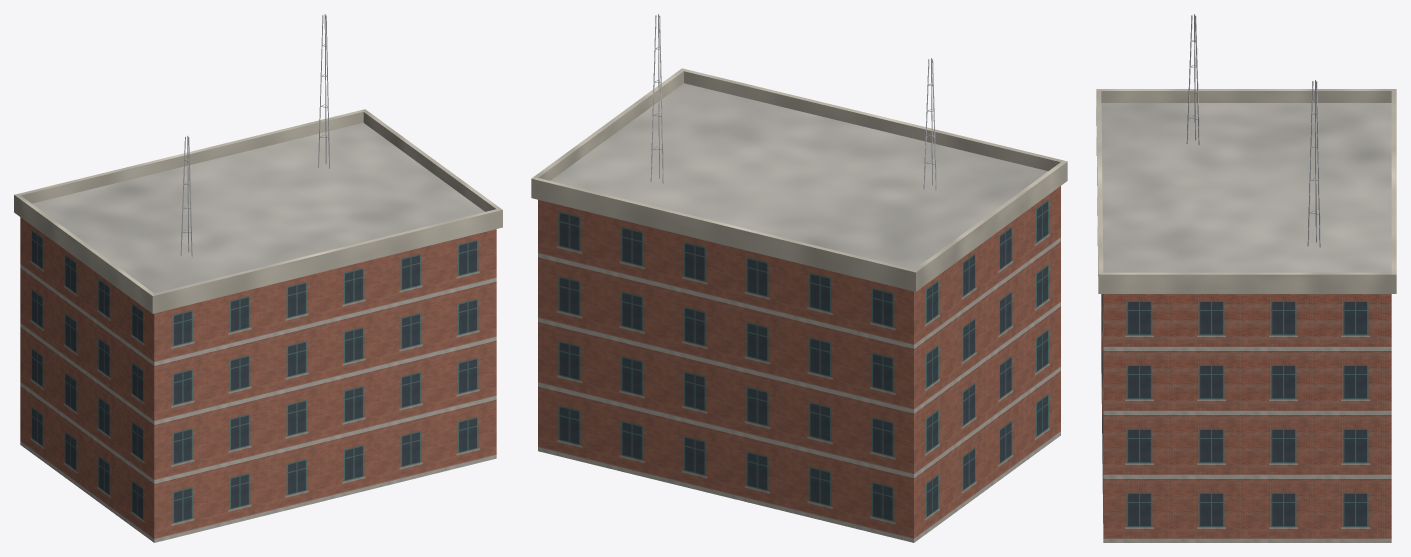
File: SM_MoloItalia_Edificio4P_LOD1.fbx
3 views of the same model, side by side, from view 1: azimuth 30°, elevation 25°; view 2: azimuth 150°, elevation 25°; view 3: azimuth 270°, elevation 25° (orthographic). The views are drawn at different scales.
Parts seen in each view (by area): view 1: SM_MoloItalia_Edificio4P_LOD1; view 2: SM_MoloItalia_Edificio4P_LOD1; view 3: SM_MoloItalia_Edificio4P_LOD1.
Part boxes in pixels (left/top/right/bottom): SM_MoloItalia_Edificio4P_LOD1: left=14, top=14, right=502, bottom=542; SM_MoloItalia_Edificio4P_LOD1: left=531, top=14, right=1067, bottom=542; SM_MoloItalia_Edificio4P_LOD1: left=1096, top=14, right=1396, bottom=542.
Size of the model in its own units: 2180 by 1490 by 2315.
Materials: 2 (2 with a texture image).
